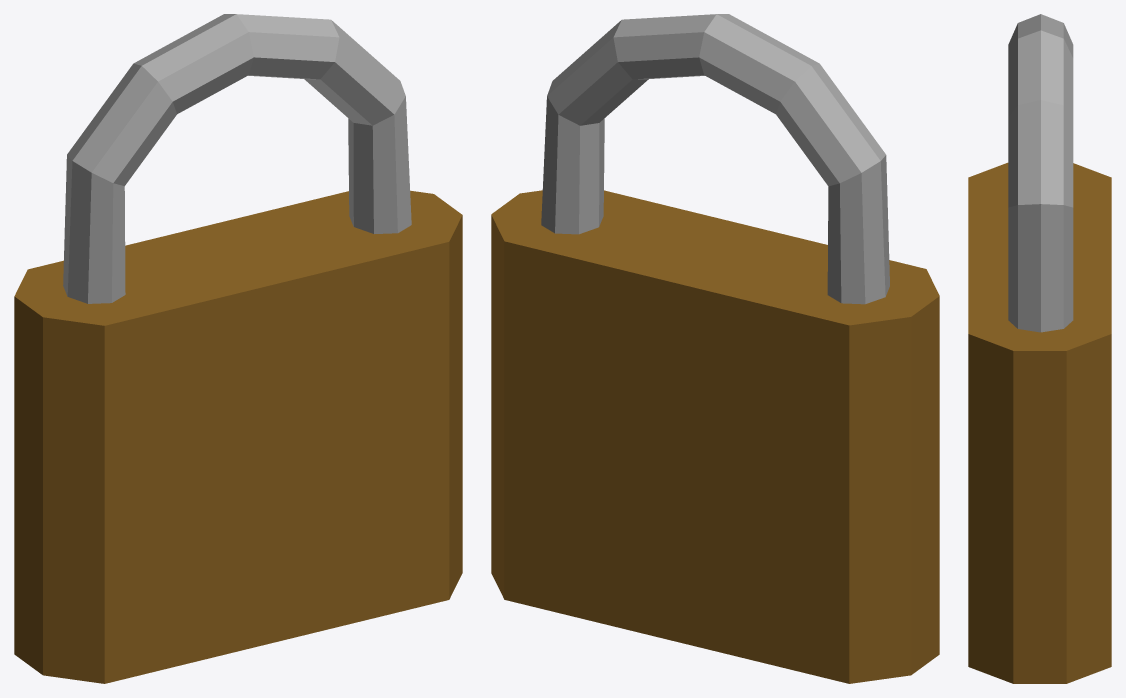
File: PADLOCK.fbx
3 views of the same model, side by side, from view 1: azimuth 30°, elevation 25°; view 2: azimuth 150°, elevation 25°; view 3: azimuth 270°, elevation 25° (orthographic). The views are drawn at different scales.
Parts seen in each view (by area): view 1: PADLOCK; view 2: PADLOCK; view 3: PADLOCK.
Part boxes in pixels (left/top/right/bottom): PADLOCK: left=14, top=14, right=462, bottom=683; PADLOCK: left=491, top=14, right=939, bottom=683; PADLOCK: left=968, top=14, right=1111, bottom=683.
Bounding box in the file's own units: 8.46 × 11.56 × 2.69.
